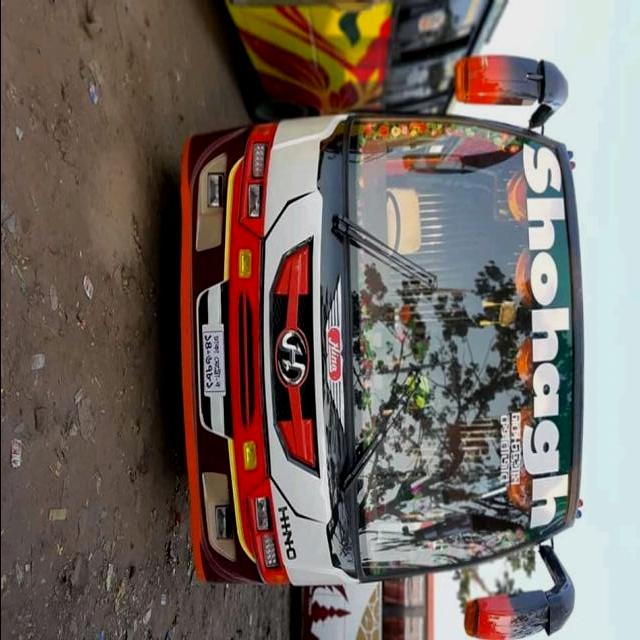bus: (179, 54, 584, 640)
